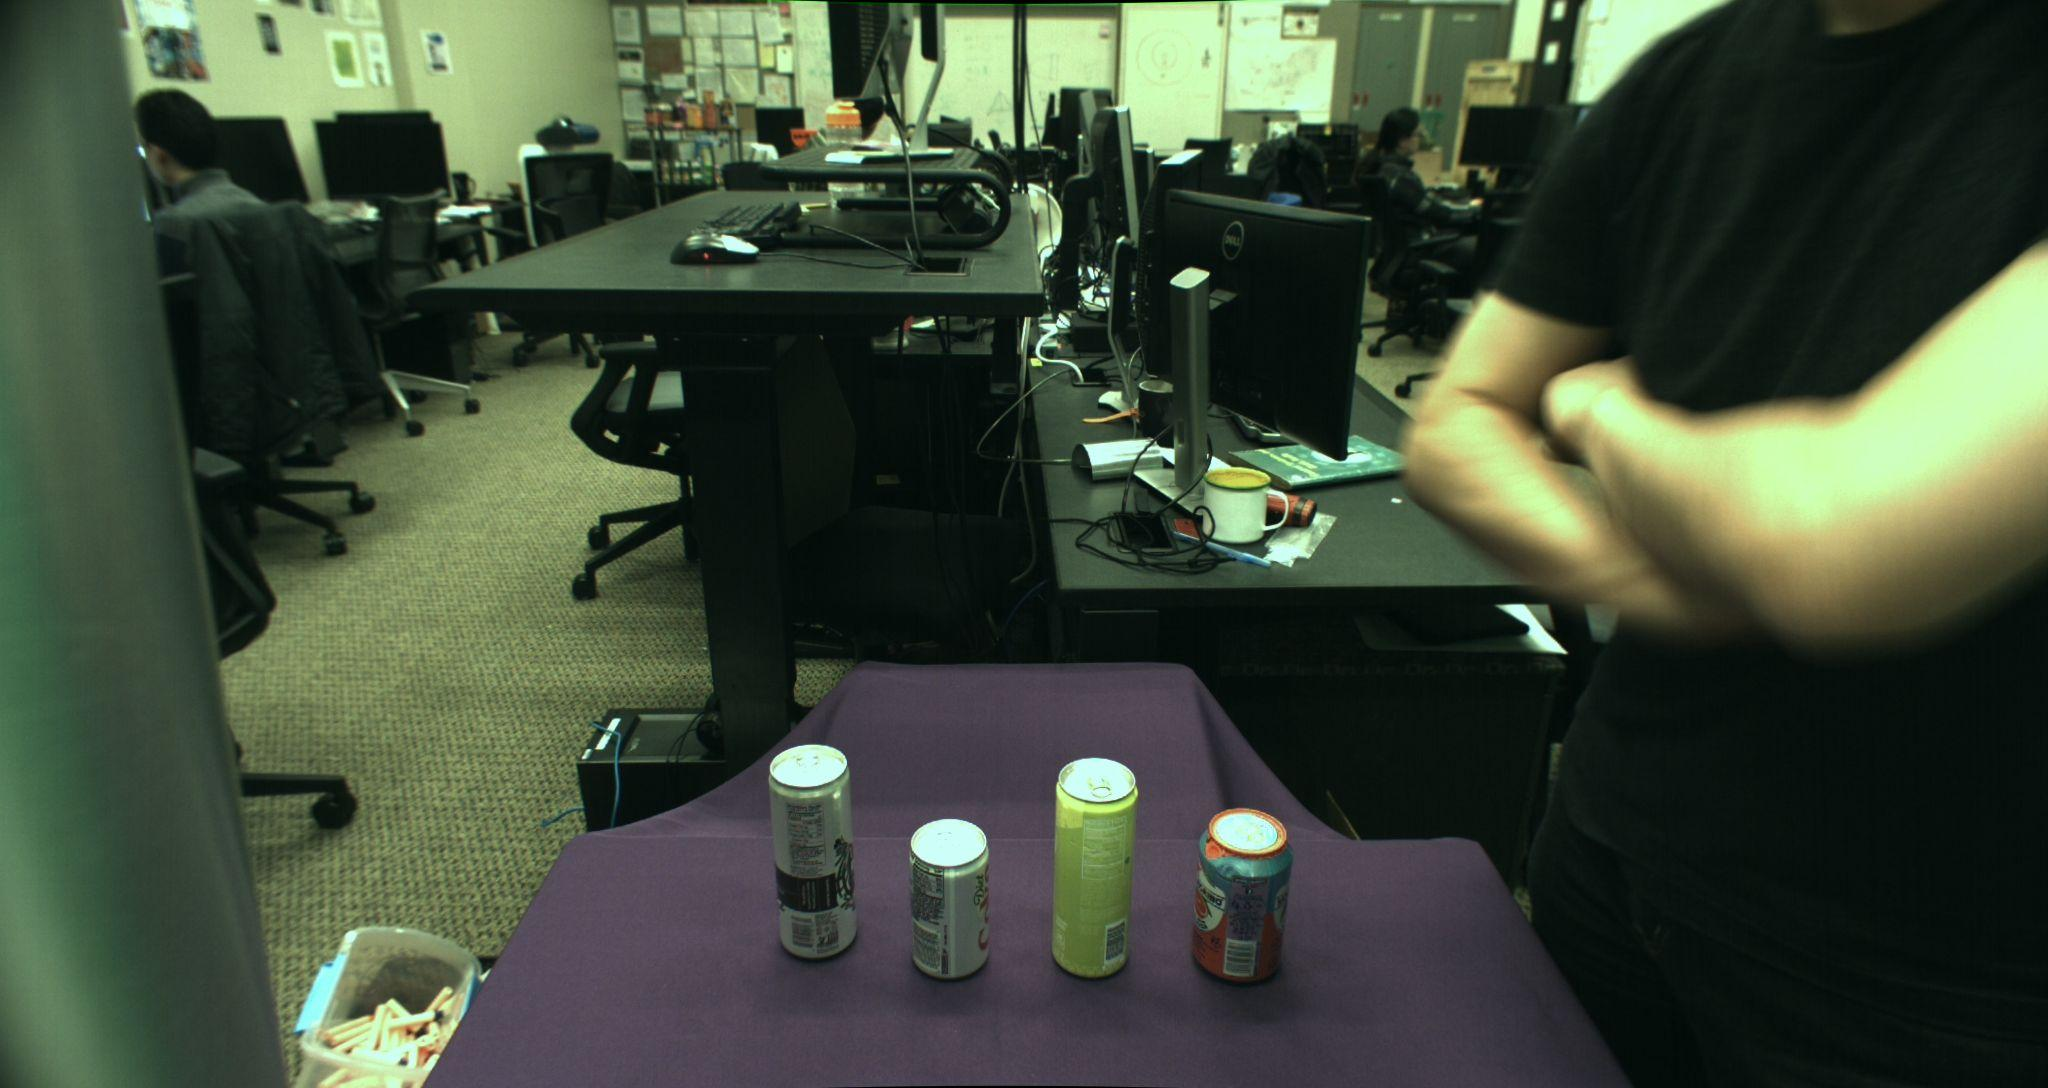can_diet_coke_small: (908, 818, 991, 982)
can_dry_sparkling_vanilla_bean: (767, 744, 857, 961)
can_izze_fusions_lemon_lime: (1050, 756, 1138, 980)
can_sanpellegrino_blood_orange: (1191, 806, 1295, 986)
